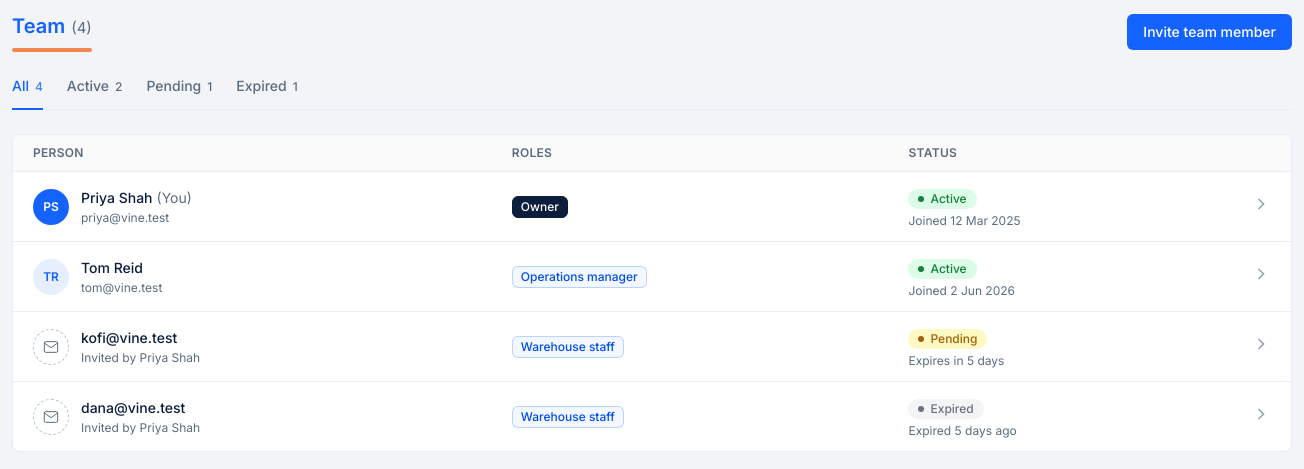
Team page › filters by status
Click the button named "Pending 1" at (179, 93), box x1=146 y1=76 x2=212 y2=110
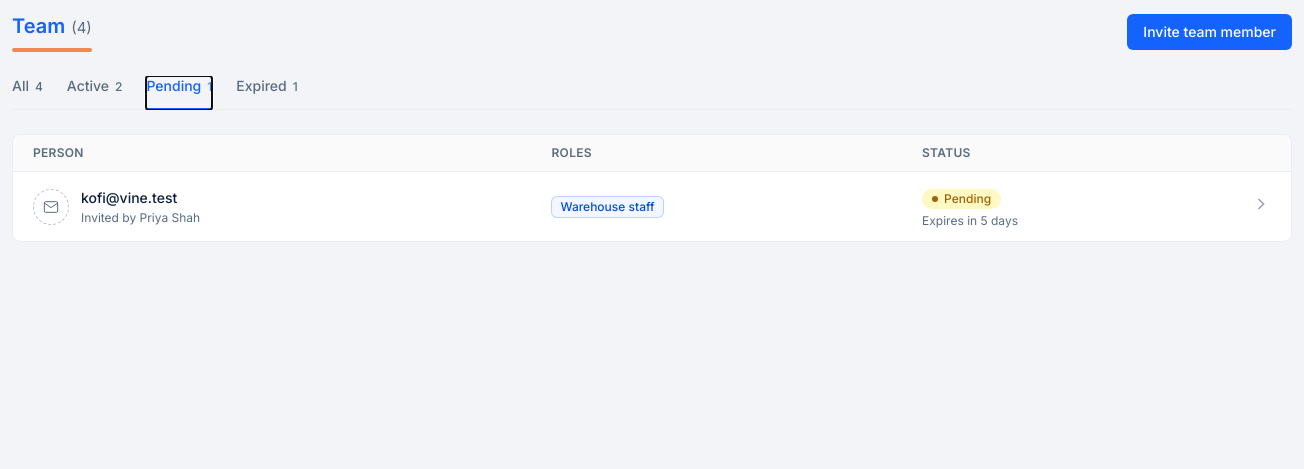
Expected: the text "kofi@vine.test" is shown, x1=81 y1=188 x2=177 y2=206
Expected: the button "dana@vine.test" is gone
Expected: the button "Tom Reid" is gone
Click the button named "Active 2" at (95, 93), box x1=67 y1=76 x2=122 y2=110
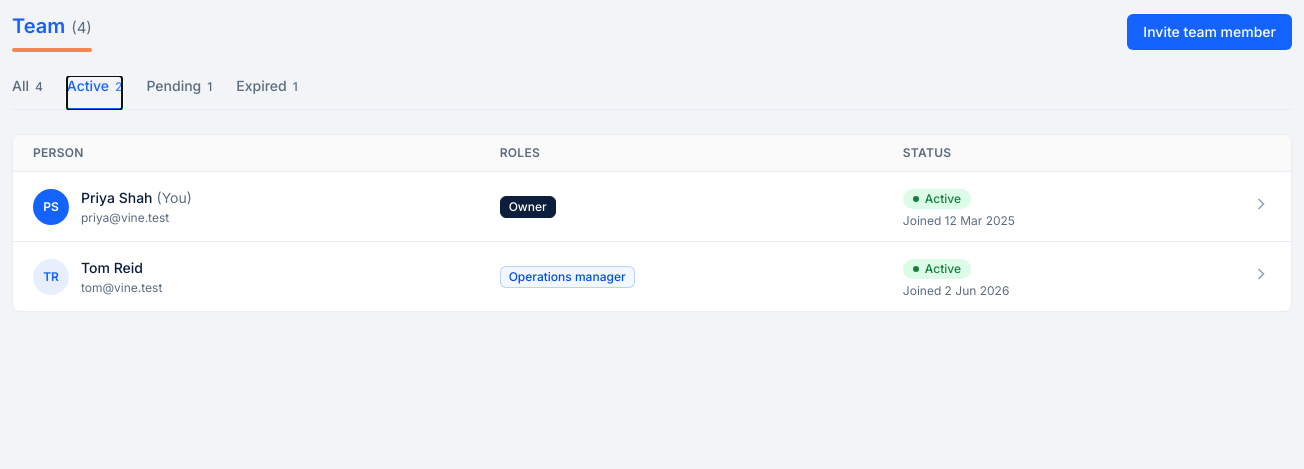
Expected: the text "Tom Reid" is shown, x1=81 y1=258 x2=143 y2=276
